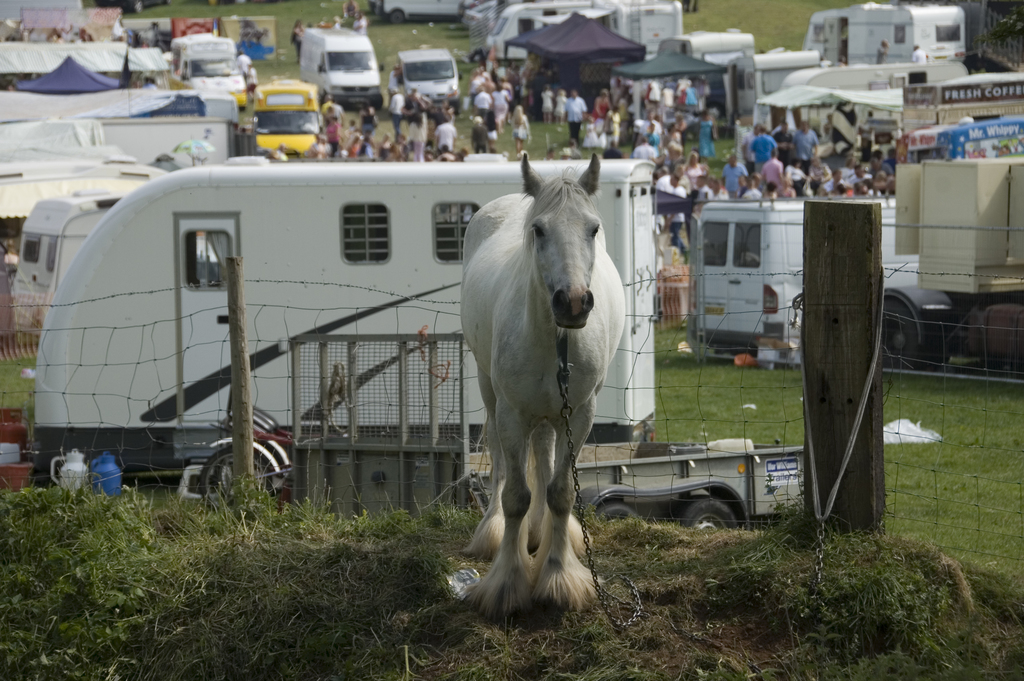horse: (455, 151, 626, 613)
